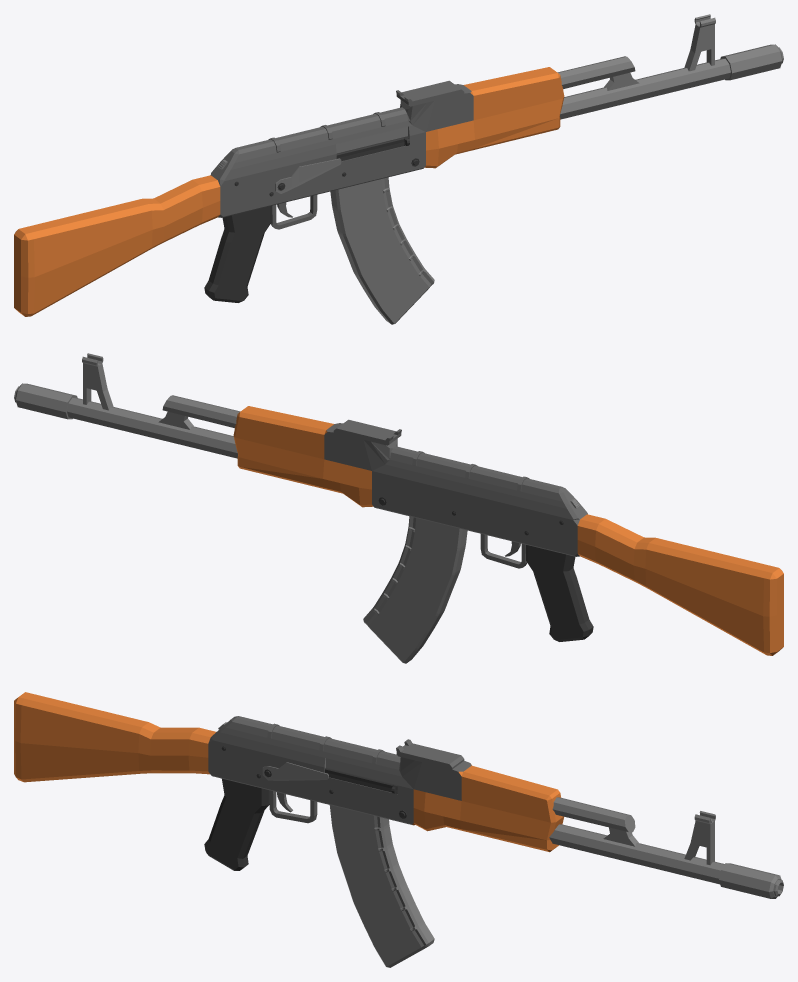
3 renders of one model, top to bottom at view 1: azimuth 30°, elevation 25°; view 2: azimuth 150°, elevation 25°; view 3: azimuth 330°, elevation 25°, orthographic.
Parts seen in each view (by area): view 1: ak; view 2: ak; view 3: ak.
Part boxes in pixels (bbox=[...]): ak: bbox=[14, 14, 783, 324]; ak: bbox=[14, 353, 783, 663]; ak: bbox=[14, 692, 783, 967].
Bounding box in the file's own units: 6.36 × 1.82 × 0.2212.
Materials: 1 (1 with a texture image).
